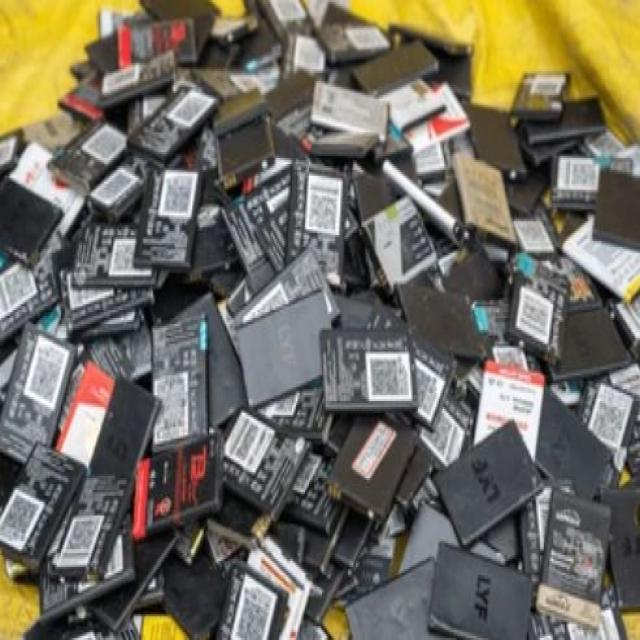electronic: (317, 318, 429, 426)
